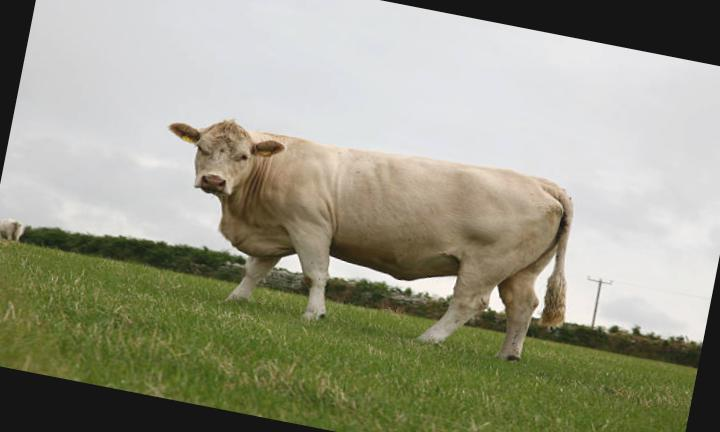Charolais: (171, 120, 572, 359)
